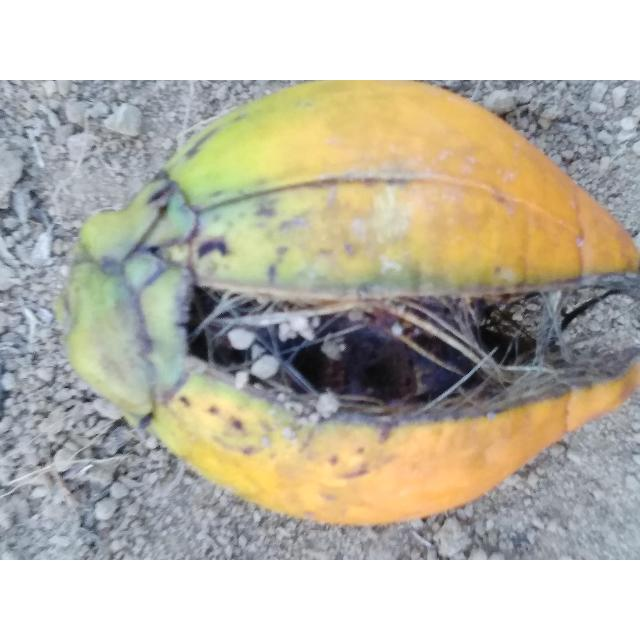damaged: (56, 80, 640, 525)
